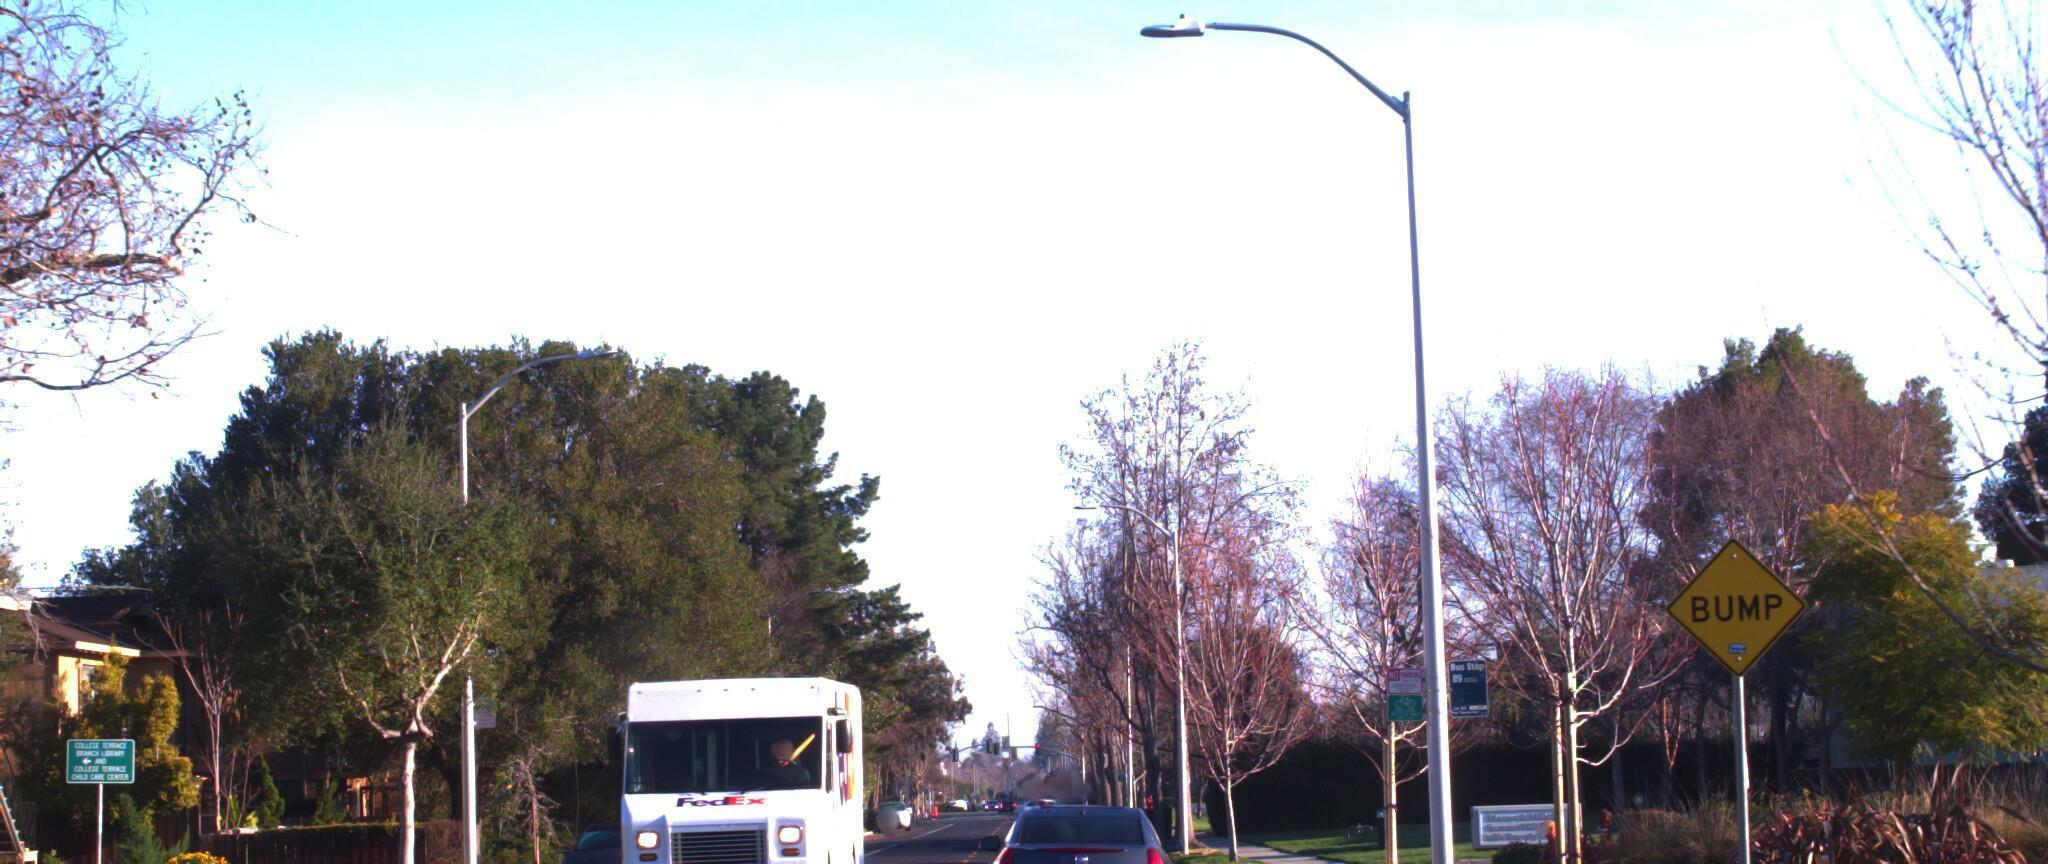car: (967, 770, 1194, 864), (555, 795, 697, 864)
truck: (616, 626, 899, 864)
